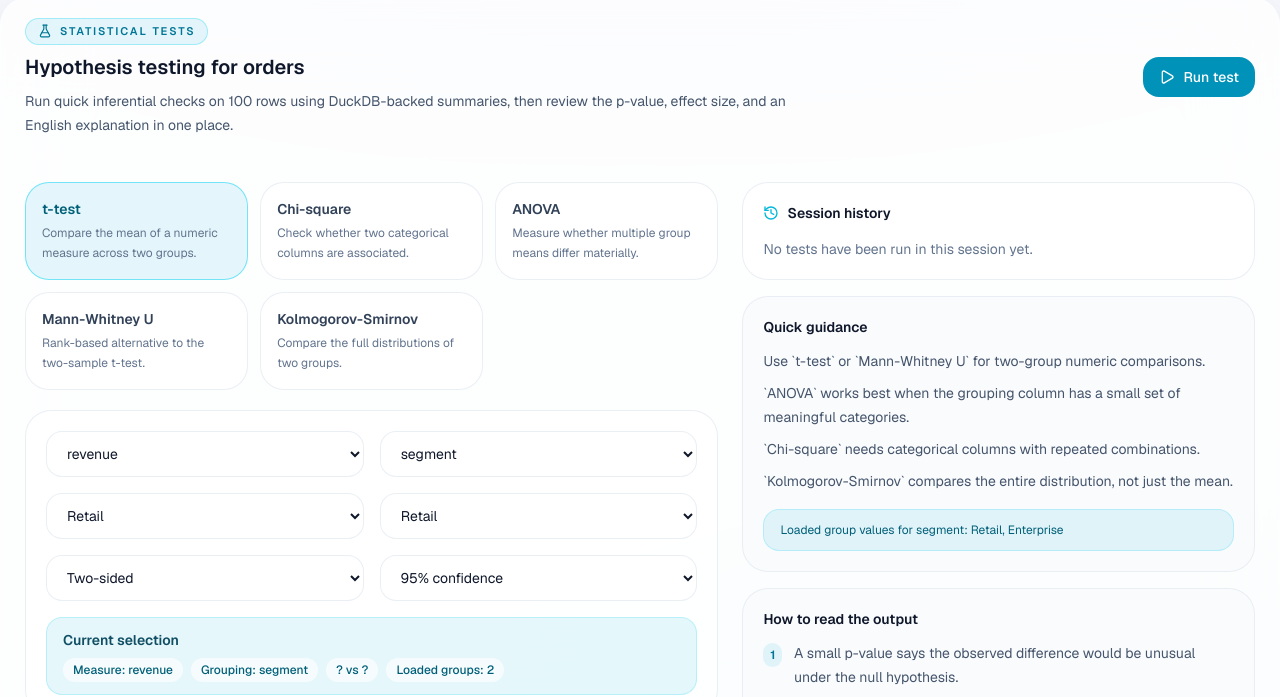
Test: StatisticalTests › surfaces execution errors from the statistical engine
The width and height of the screenshot is (1280, 697).
Expected: the text "Loaded group values for segment: Retail, Enterprise" is shown, [763,508,1234,550]
Click the button "Run test" at coordinates (1199, 77), box [1143,57,1255,97]
(page scrolled)
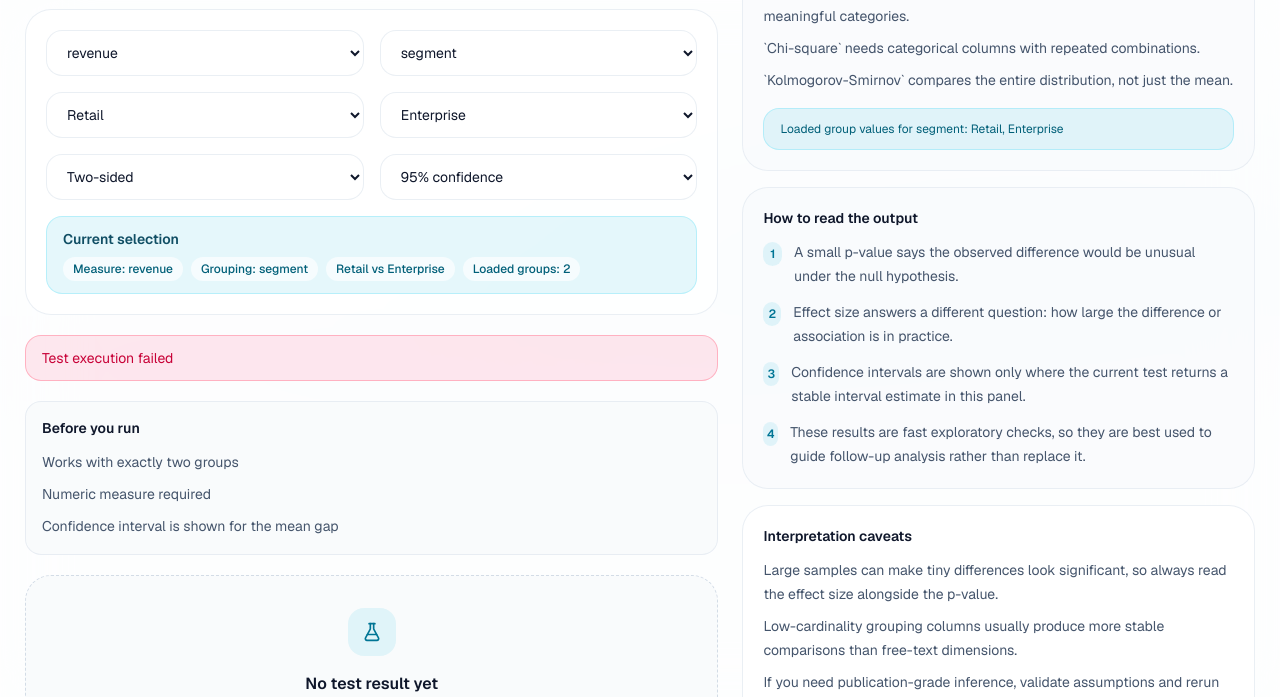
Result: the text "Test execution failed" is shown at [25,334,718,380]
